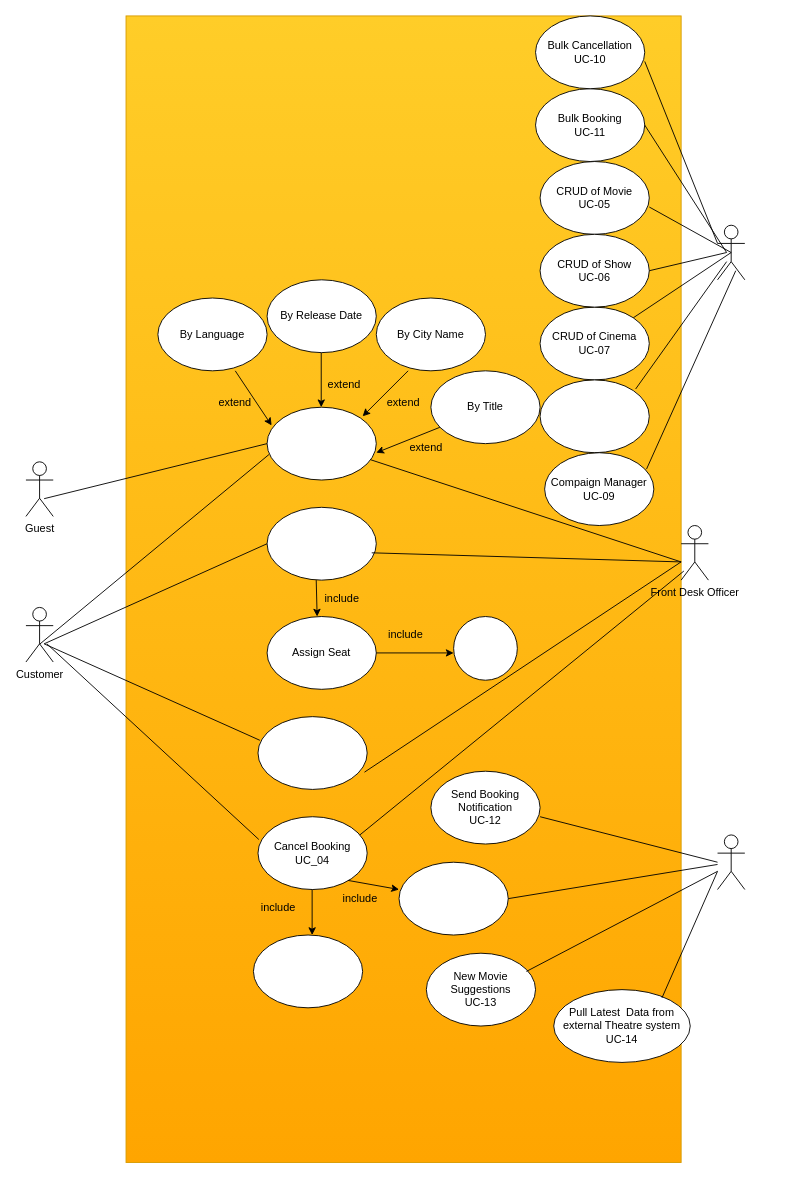
This 788x1178 diagram has some shape labels left out. The shapes that lost their labels are listed below. From the top down, each one's centre as x and y in pixels, then its label:
At point 731,252: "Internal Operator".
At point 594,416: "CRUD of City UC-08".
At point 321,443: "Search Movie UC_01".
At point 321,543: "Create Booking UC_02".
At point 485,648: "Make Payment".
At point 312,752: "View Booking UC-03".
At point 731,862: "System".
At point 453,898: "Send Cancel Notification".
At point 308,971: "Refund Payment".
